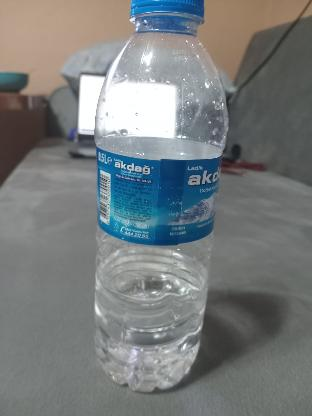Plastic Bottle: (93, 0, 235, 398)
